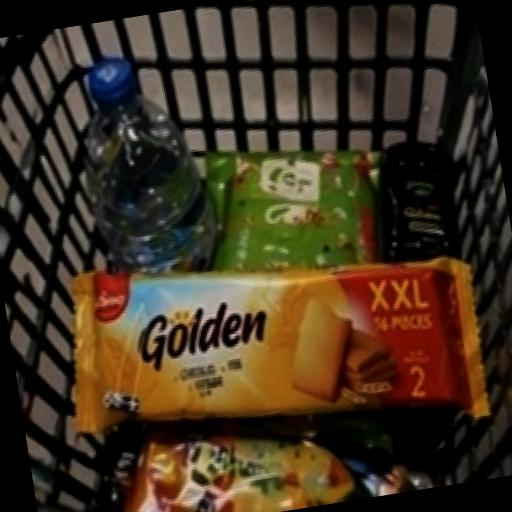golden: (23, 166, 512, 497)
